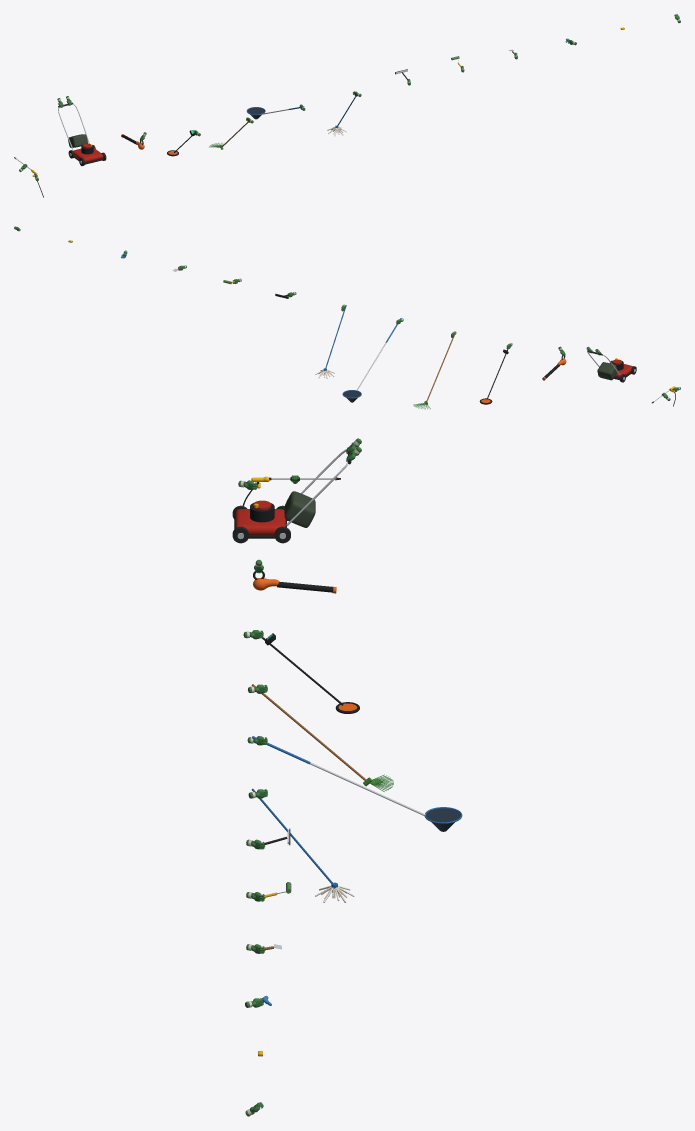
The model's file is tools.glb.
The picture shows the model from 3 angles, top to bottom: view 1: azimuth 30°, elevation 25°; view 2: azimuth 150°, elevation 25°; view 3: azimuth 270°, elevation 25°; orthographic projection. The views are drawn at different scales.
Bounding box in the file's own units: 18.24 × 2.57 × 2.79.
